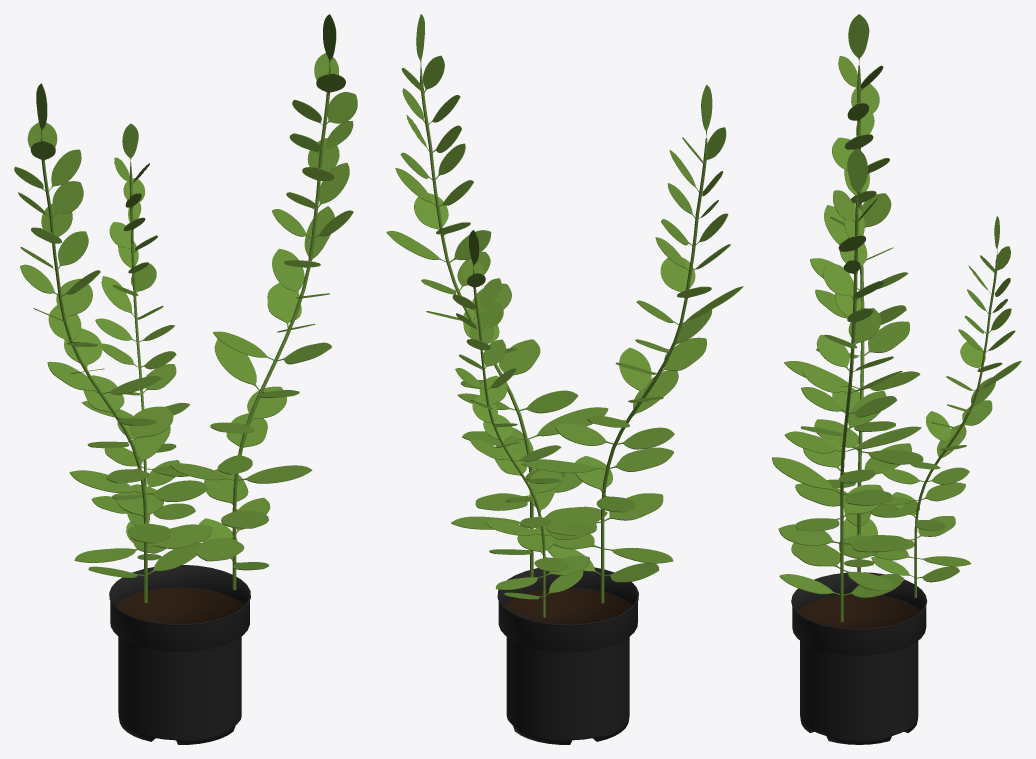
The model's file is pot+Plant.fbx.
The picture shows the model from 3 angles, left to right: view 1: azimuth 30°, elevation 25°; view 2: azimuth 150°, elevation 25°; view 3: azimuth 270°, elevation 25°; orthographic projection. The views are drawn at different scales.
Parts seen in each view (by area): view 1: Plant, pot; view 2: Plant, pot; view 3: Plant, pot.
Boxes of the visible parts, x1,y1,x2,y2 form: Plant: (14,14,357,602); pot: (109,565,250,744); Plant: (386,14,743,617); pot: (497,567,638,744); Plant: (772,14,1021,621); pot: (791,572,927,744).
Size of the model in its own units: 18.76 by 36.23 by 12.8.
